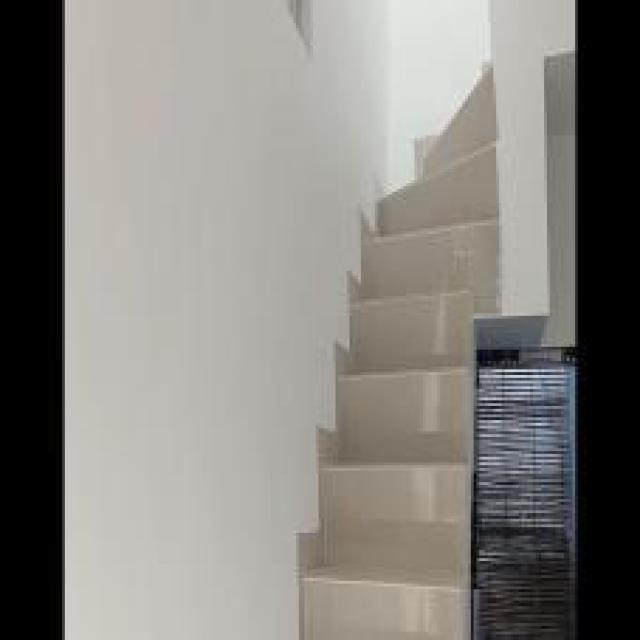upstair: (311, 153, 475, 638)
